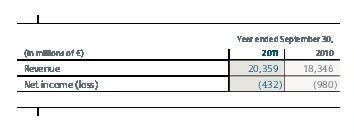table: (0, 0, 354, 136)
